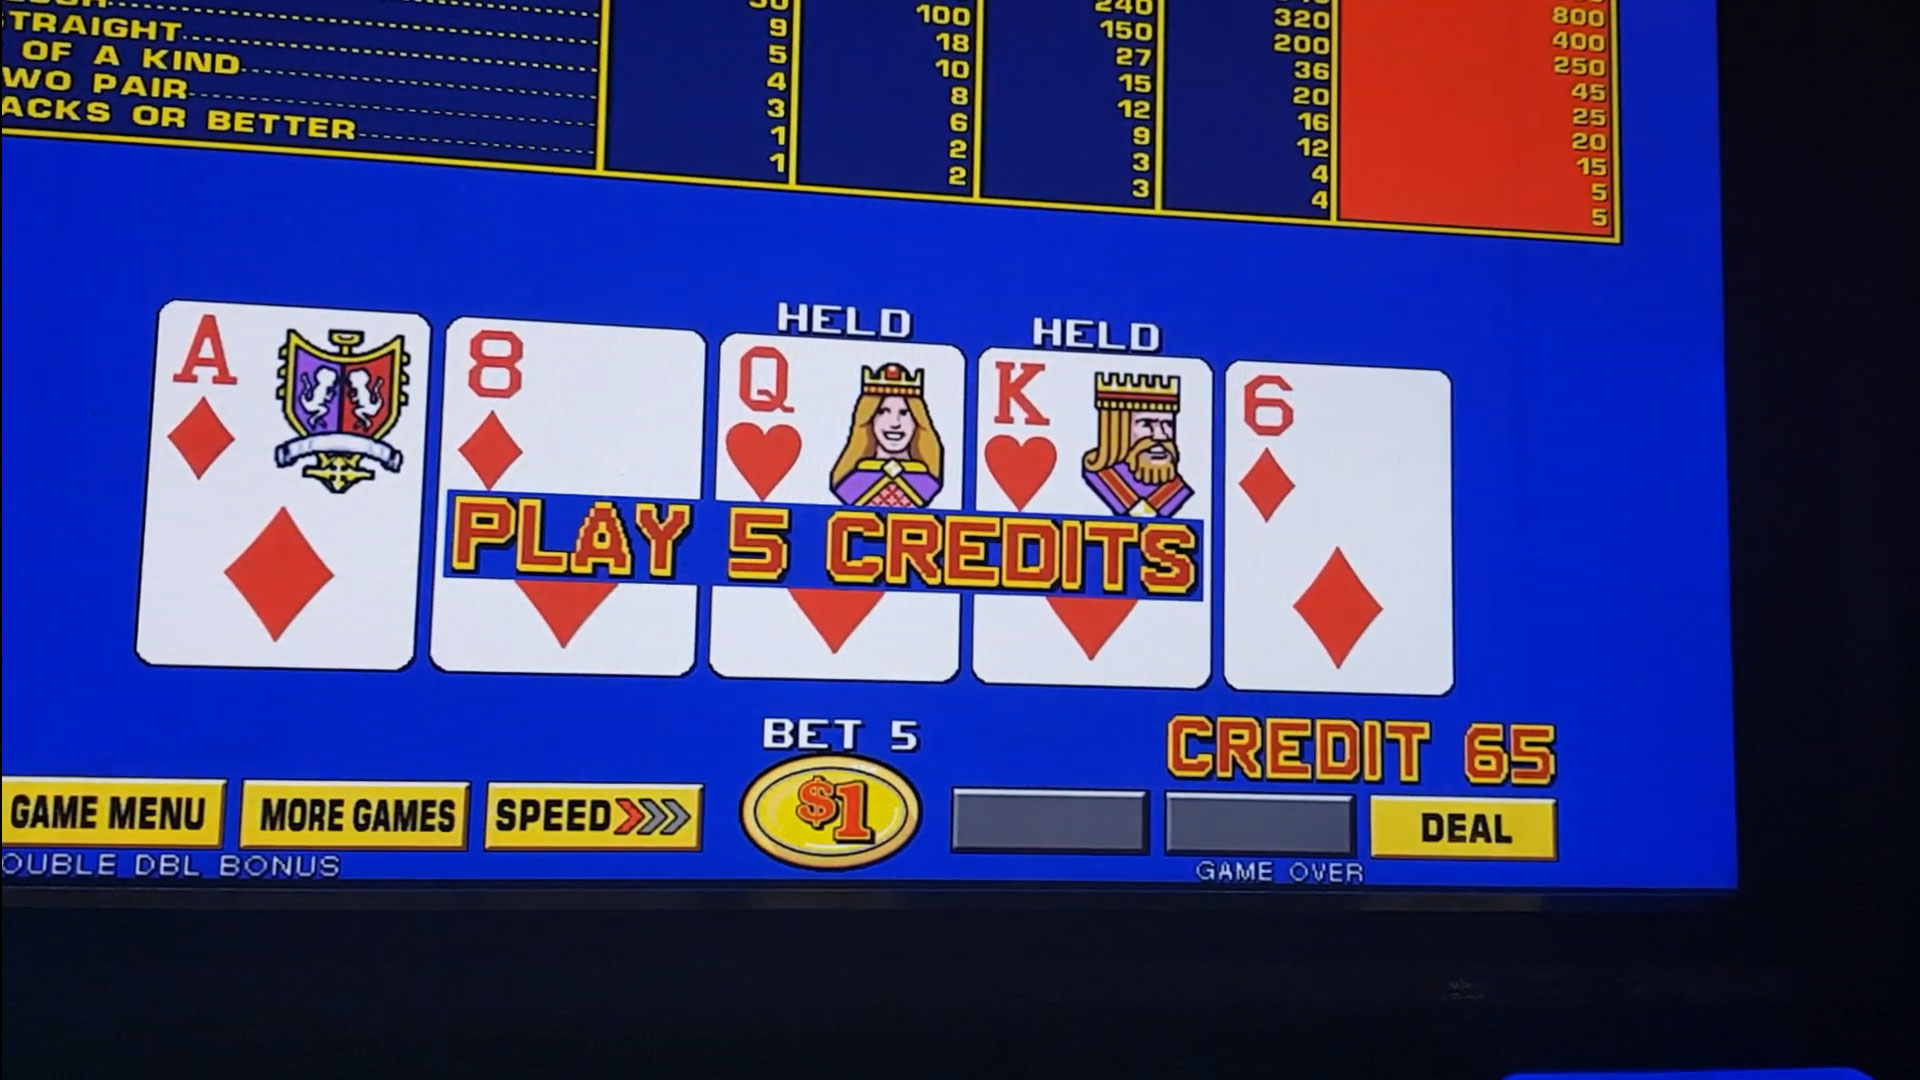D6: (1236, 371, 1431, 538)
D8: (454, 334, 694, 485)
DA: (164, 318, 419, 488)
HK: (985, 363, 1205, 510)
HQ: (723, 349, 956, 492)
